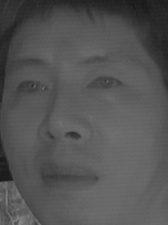eye: (85, 72, 126, 99), (12, 77, 51, 102)
mouth: (40, 154, 100, 195)
